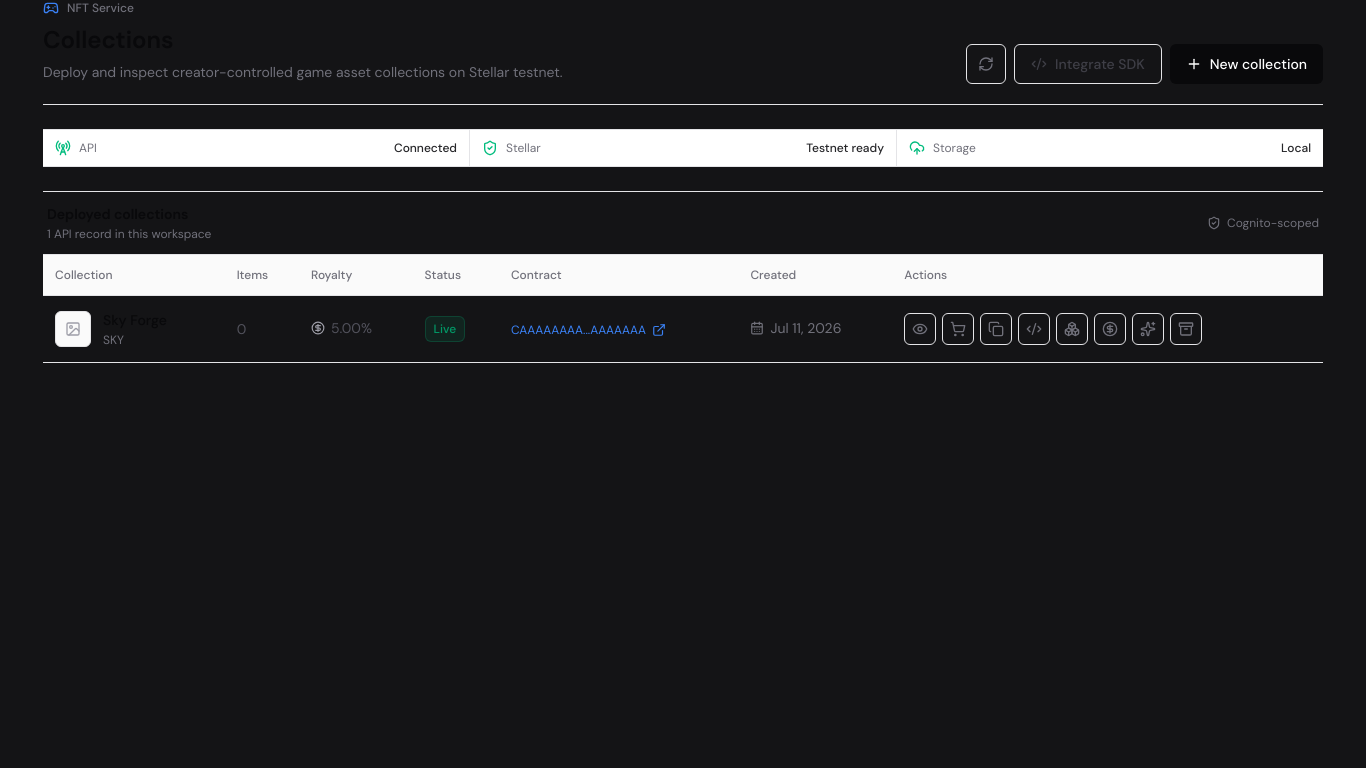
Test case: CollectionDashboard › persists auto-submitted sale setup in dashboard state
Click the button titled "Configure primary sale". click: [1110, 329]
box: left=1094, top=313, right=1126, bottom=345
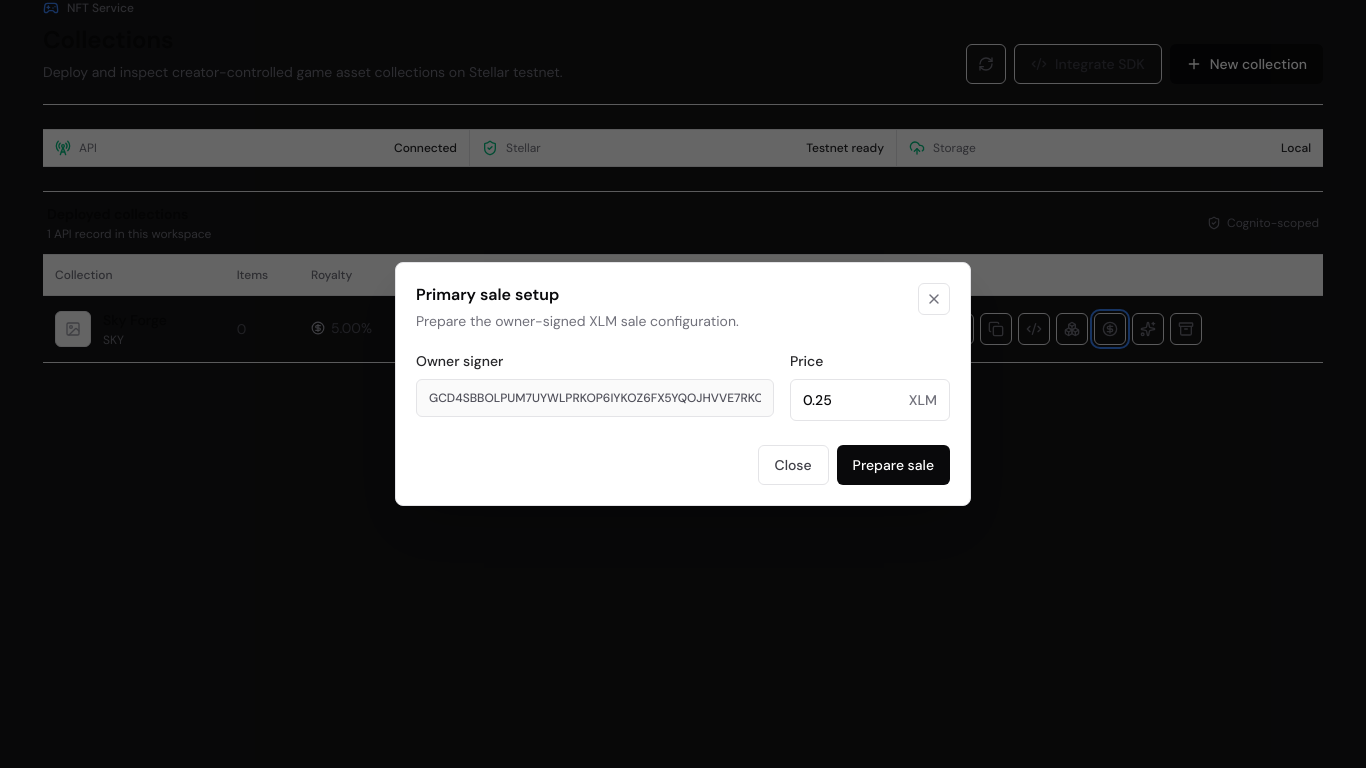
Replace the text in the field labelled "Price XLM" with "1.25". click: [850, 400]
box: left=791, top=380, right=909, bottom=420
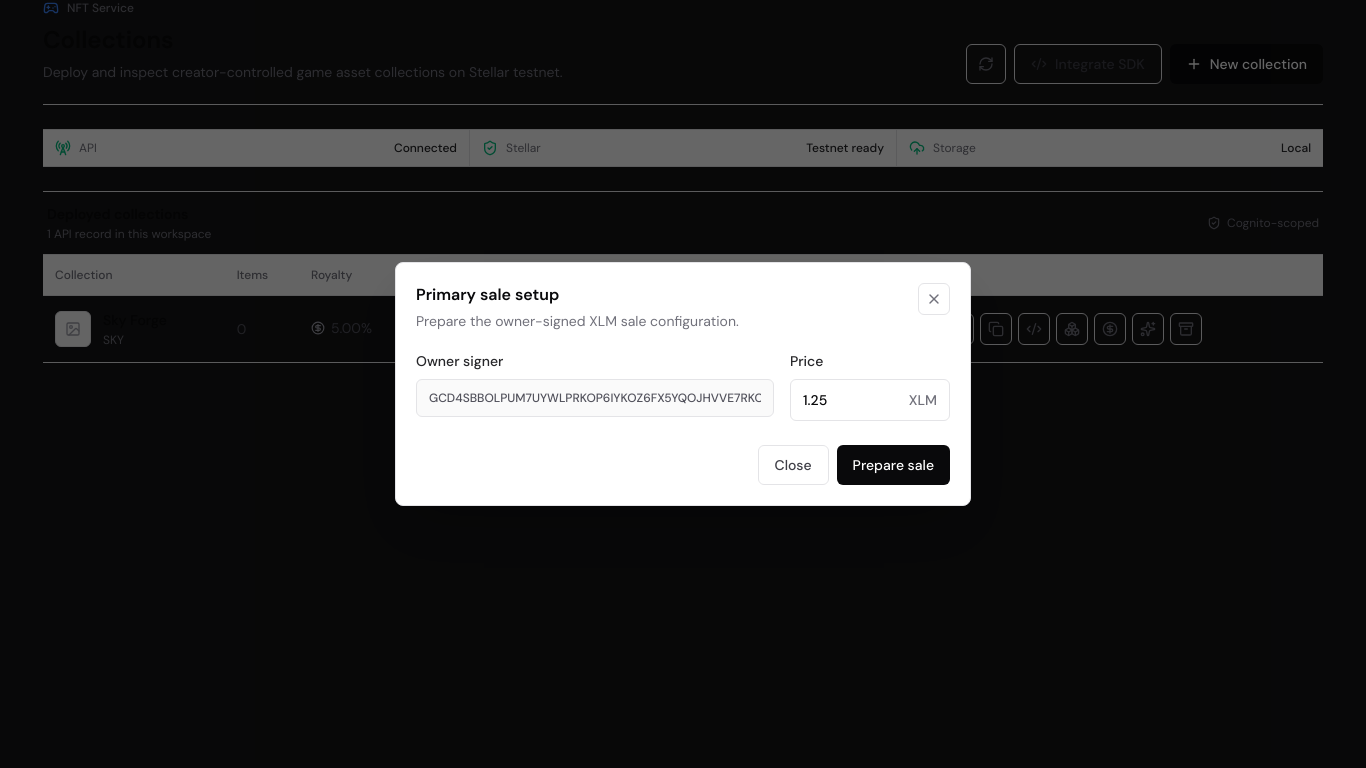
Click the button "Prepare sale". click: [893, 465]
box: left=837, top=445, right=950, bottom=485
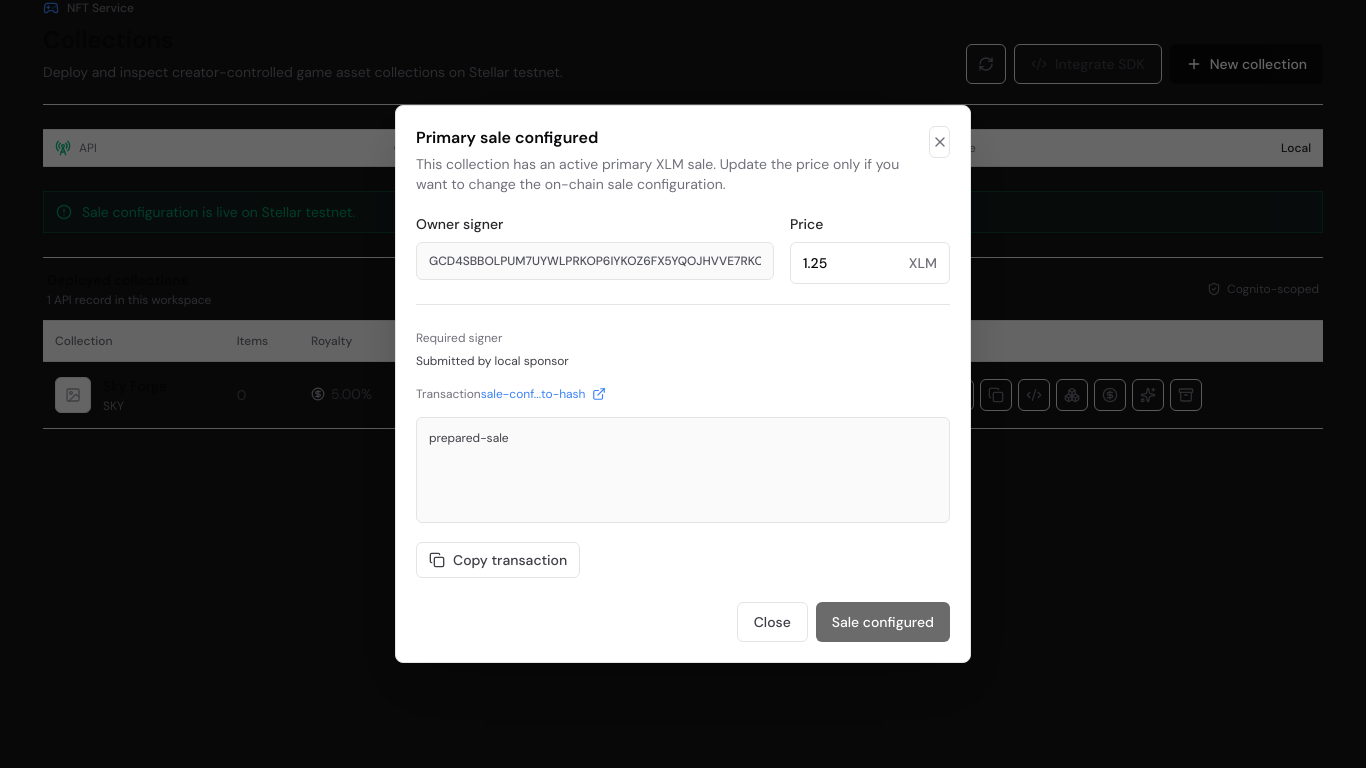
Result: the button "Sale configured" is disabled at left=816, top=602, right=950, bottom=642
Result: the text "Submitted by local sponsor" is shown at left=416, top=353, right=569, bottom=369
